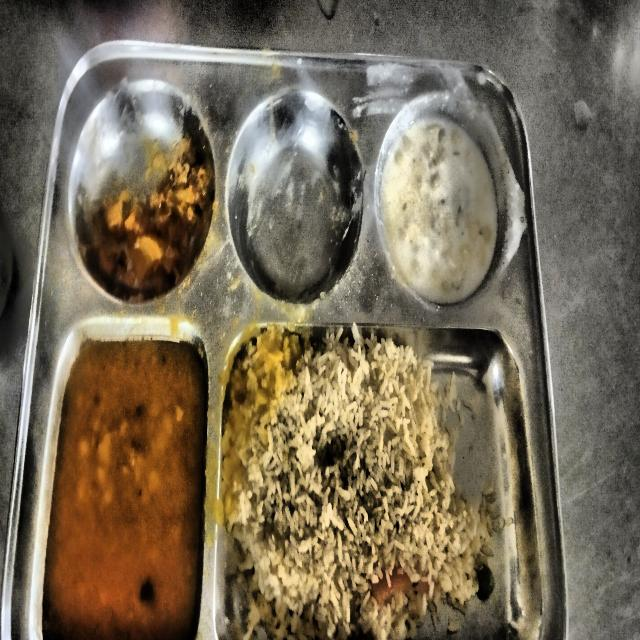Biryani: (42, 340, 205, 640)
Rajma: (222, 327, 487, 640)
daal-pulse: (380, 118, 497, 303)
gajar-aloo: (92, 133, 202, 294)
